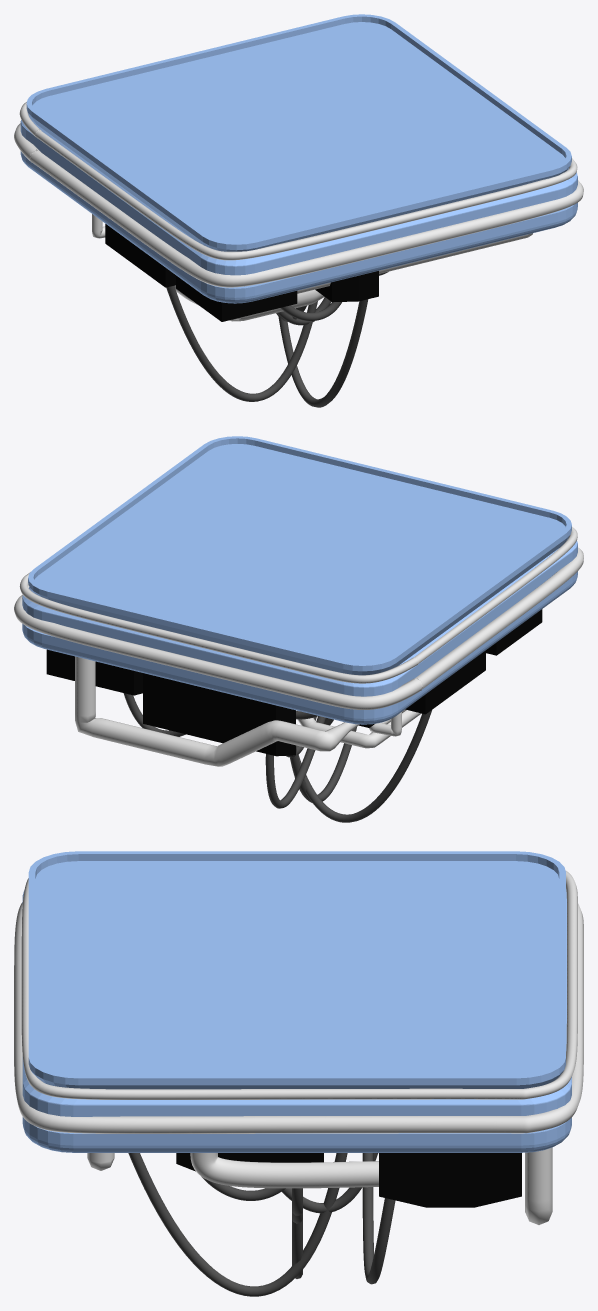
The model's file is platform.fbx.
The picture shows the model from 3 angles, top to bottom: view 1: azimuth 30°, elevation 25°; view 2: azimuth 150°, elevation 25°; view 3: azimuth 270°, elevation 25°; orthographic projection. The views are drawn at different scales.
Visible parts, largest first — view 1: Plane.003, NurbsPath.005, NurbsPath.003, Cube.002, NurbsPath.004; view 2: Plane.003, NurbsPath.005, Cube.002, NurbsPath.004, NurbsPath.003; view 3: Plane.003, NurbsPath.005, Cube.002, NurbsPath.003, NurbsPath.004.
Boxes of the visible parts, <box> form: Plane.003: <box>20,14,577,303</box>; NurbsPath.005: <box>14,102,583,287</box>; NurbsPath.003: <box>166,271,388,407</box>; Cube.002: <box>105,224,378,321</box>; NurbsPath.004: <box>92,214,532,321</box>; Plane.003: <box>22,436,577,724</box>; NurbsPath.005: <box>14,527,583,709</box>; Cube.002: <box>46,609,542,756</box>; NurbsPath.004: <box>75,656,421,766</box>; NurbsPath.003: <box>123,693,431,822</box>; Plane.003: <box>22,851,571,1152</box>; NurbsPath.005: <box>14,871,583,1133</box>; Cube.002: <box>176,1153,521,1207</box>; NurbsPath.003: <box>128,1153,395,1296</box>; NurbsPath.004: <box>87,1147,552,1224</box>.
Bounding box in the file's own units: 210 × 135 × 208.
